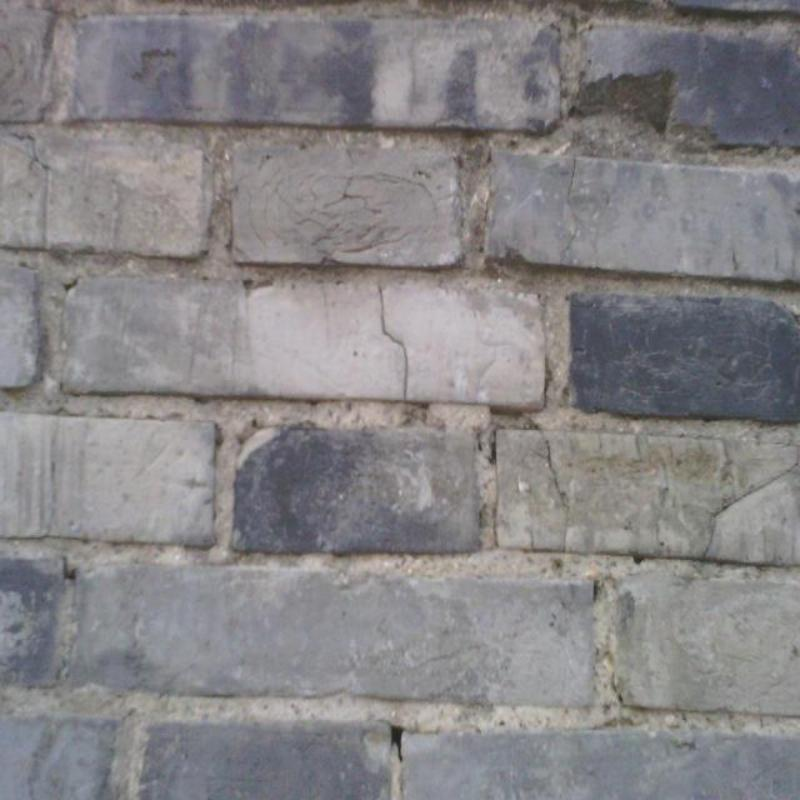crack: (702, 461, 799, 558), (379, 286, 408, 402), (560, 159, 582, 266), (538, 429, 562, 496), (389, 725, 404, 762)
